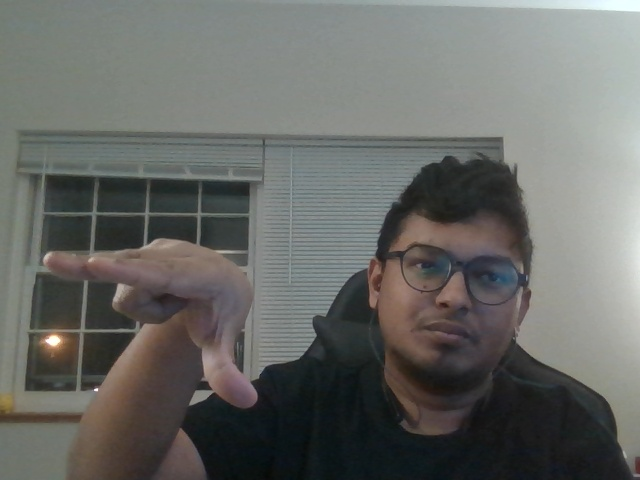no: (35, 223, 268, 406)
